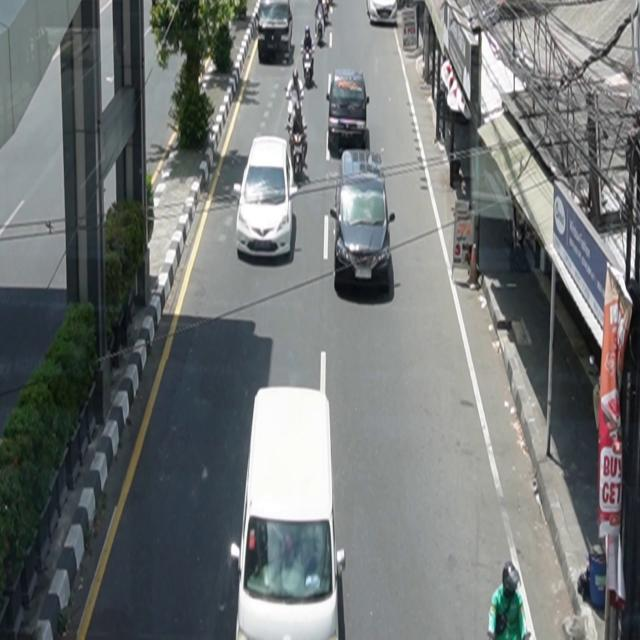bus: (231, 354, 347, 640)
car: (331, 149, 396, 287), (235, 136, 297, 261), (327, 68, 371, 154), (257, 1, 293, 64), (367, 1, 398, 26)
